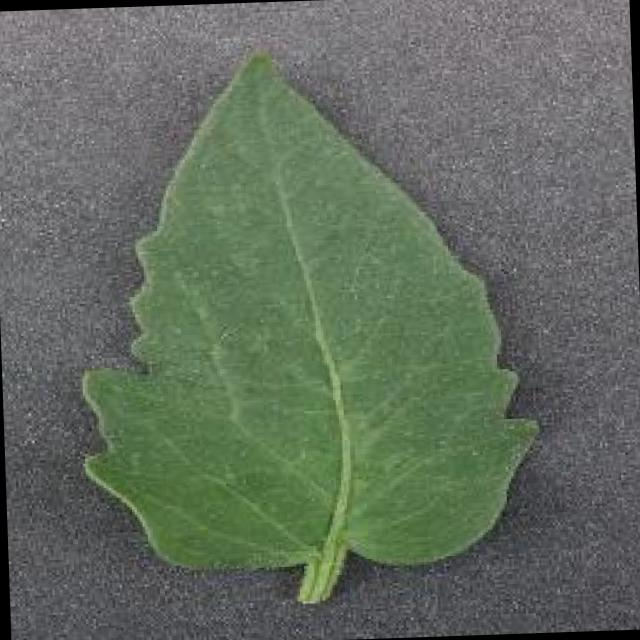Tomato_Healthy: (62, 35, 558, 602)
